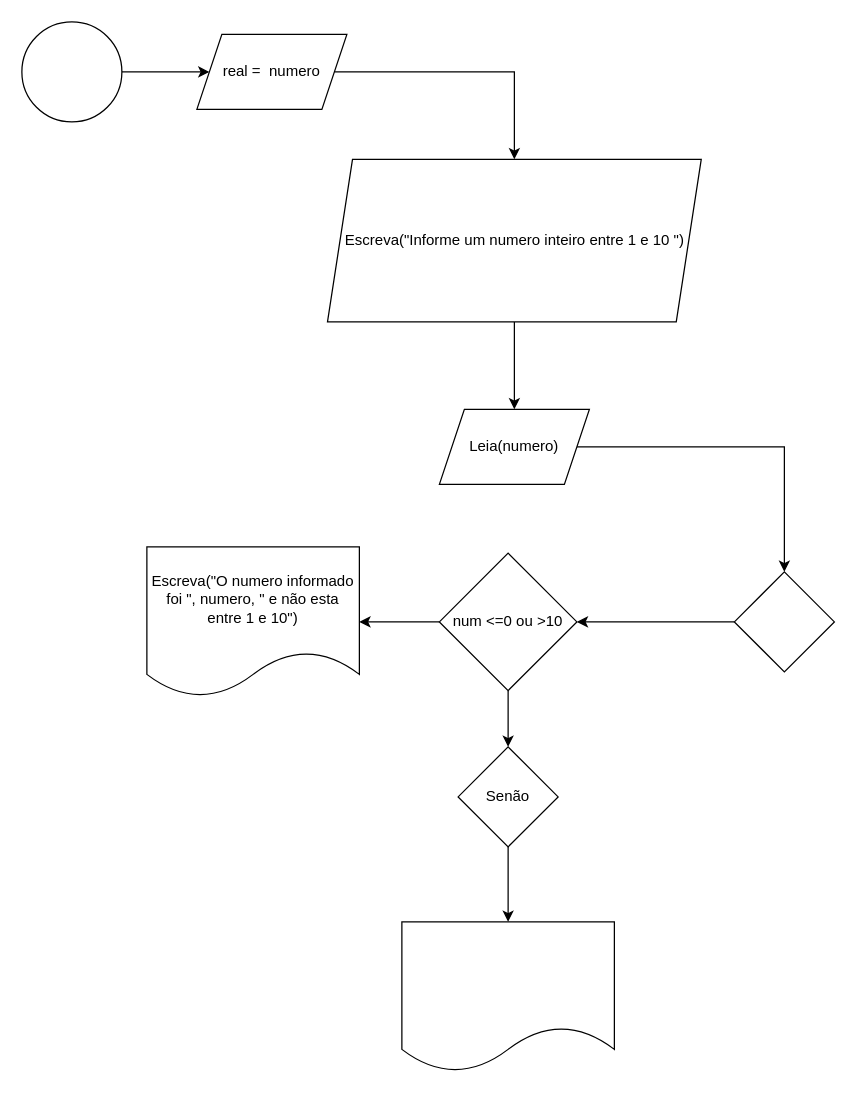
Image size: 856x1094. Some labels were removed from this diagram. The centre of each missing label's shape, as x and y in pixels:
Escreva("O numero informado foi ", numero, " e está entre 1 e 10 "): pixel 507 996
Inicio: pixel 71 71
Se: pixel 783 621
